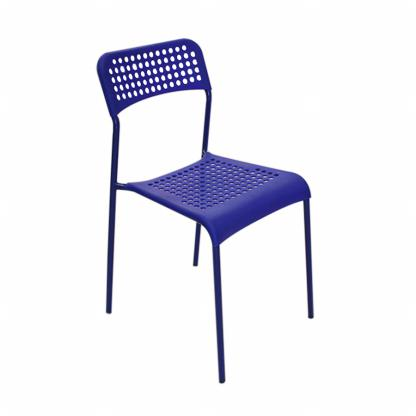chair: (84, 37, 322, 387)
